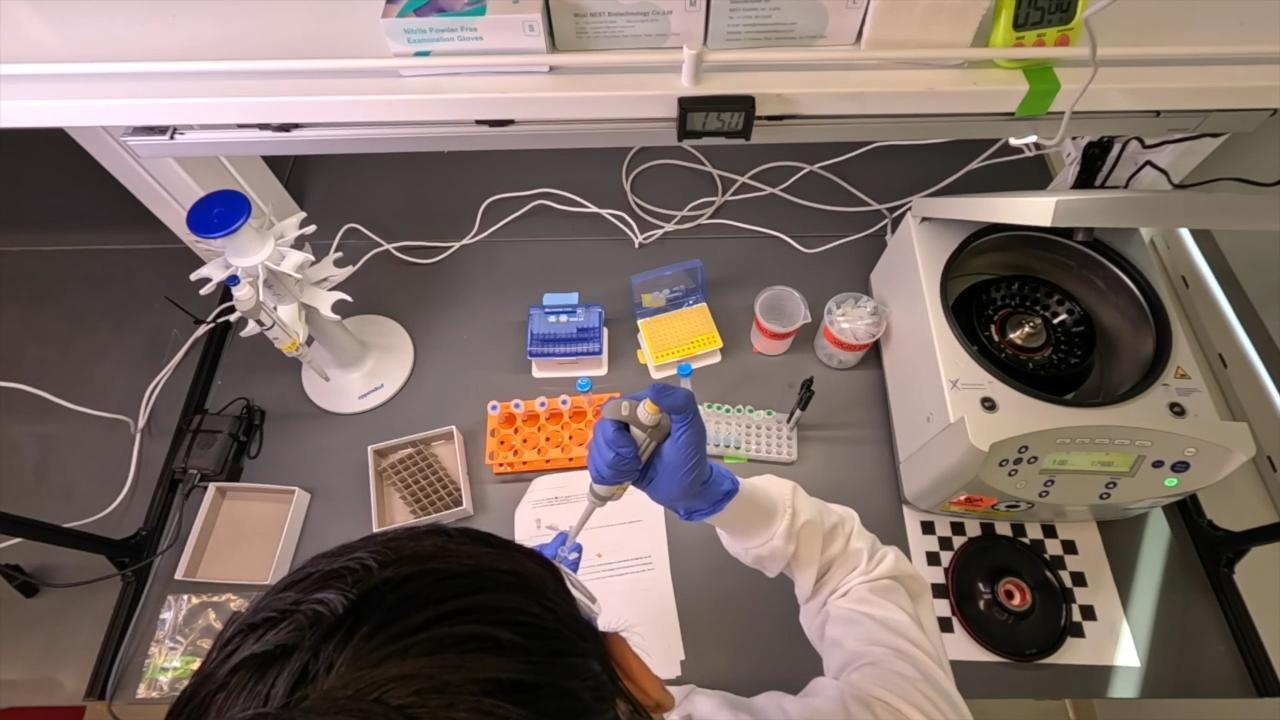pipette: (563, 395, 670, 546)
